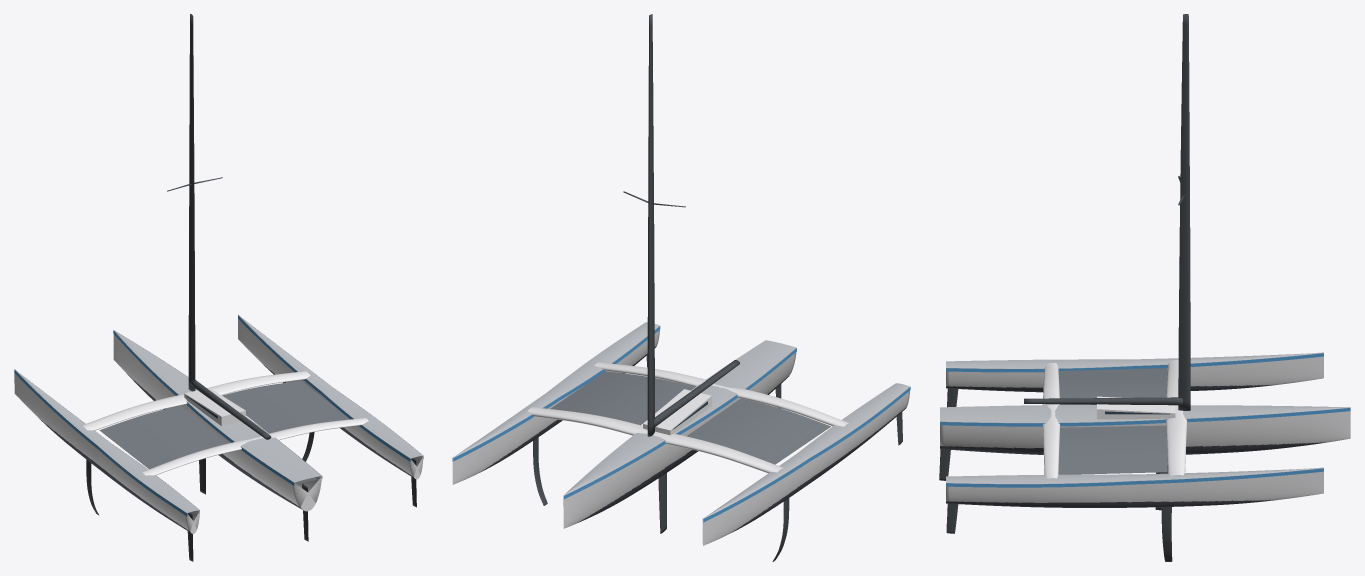
The model's file is ultim_ancien.glb.
3 renders of one model, left to right at view 1: azimuth 30°, elevation 25°; view 2: azimuth 150°, elevation 25°; view 3: azimuth 270°, elevation 25°, orthographic. The views are drawn at different scales.
Visible parts, largest first — view 1: filet, filet.001, centrale_coque, centrale_pont, flotteur_coque, flotteur_coque.001, pivot_mat, flotteur_pont, flotteur_pont.001, bras, bras.001, rouf (+5 smaller); view 2: filet, centrale_coque, flotteur_coque, filet.001, centrale_pont, flotteur_coque.001, pivot_mat, bras, flotteur_pont, flotteur_pont.001, bras.001, rouf (+6 smaller); view 3: flotteur_coque.001, centrale_coque, filet.001, flotteur_coque, centrale_pont, pivot_mat, filet, flotteur_pont.001, flotteur_pont, bras, bras.001, flotteur_fond.001 (+8 smaller).
Part boxes in pixels (x1,y1,x2,y2): filet: (99,406,228,469); filet.001: (222,381,349,433); centrale_coque: (113,331,321,511); centrale_pont: (113,330,321,482); flotteur_coque: (14,370,199,533); flotteur_coque.001: (238,315,423,479); pivot_mat: (188,14,195,391); flotteur_pont: (14,369,199,513); flotteur_pont.001: (238,314,422,458); bras: (82,371,310,430); bras.001: (141,417,368,475); rouf: (184,387,245,426); filet: (687,398,830,464); centrale_coque: (563,340,796,528); flotteur_coque: (702,383,909,545); filet.001: (550,371,694,425); centrale_pont: (564,340,796,495); flotteur_coque.001: (452,322,659,484); pivot_mat: (647,14,654,436); bras: (527,407,783,473); flotteur_pont: (702,383,909,518); flotteur_pont.001: (453,322,659,457); bras.001: (594,362,848,426); rouf: (643,389,711,435); flotteur_coque.001: (946,468,1323,502); centrale_coque: (940,405,1350,448); filet.001: (1058,425,1167,474); flotteur_coque: (946,353,1323,387); centrale_pont: (940,405,1350,422); pivot_mat: (1178,14,1190,410); filet: (1058,368,1167,404); flotteur_pont.001: (946,467,1323,483); flotteur_pont: (946,352,1323,368); bras: (1166,359,1187,475); bras.001: (1042,363,1060,478); flotteur_fond.001: (946,500,1276,507).
Bounding box in the file's own units: 22.56 × 41.98 × 31.55.
